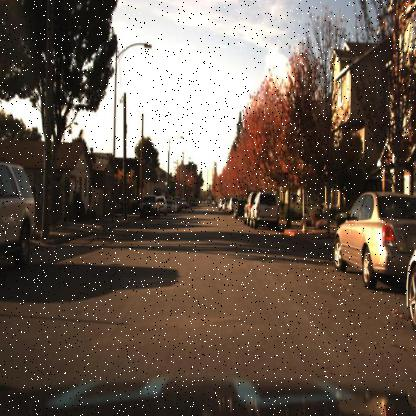car: (331, 189, 416, 296), (0, 159, 38, 278), (250, 190, 280, 231), (139, 193, 157, 221), (233, 196, 249, 223)
